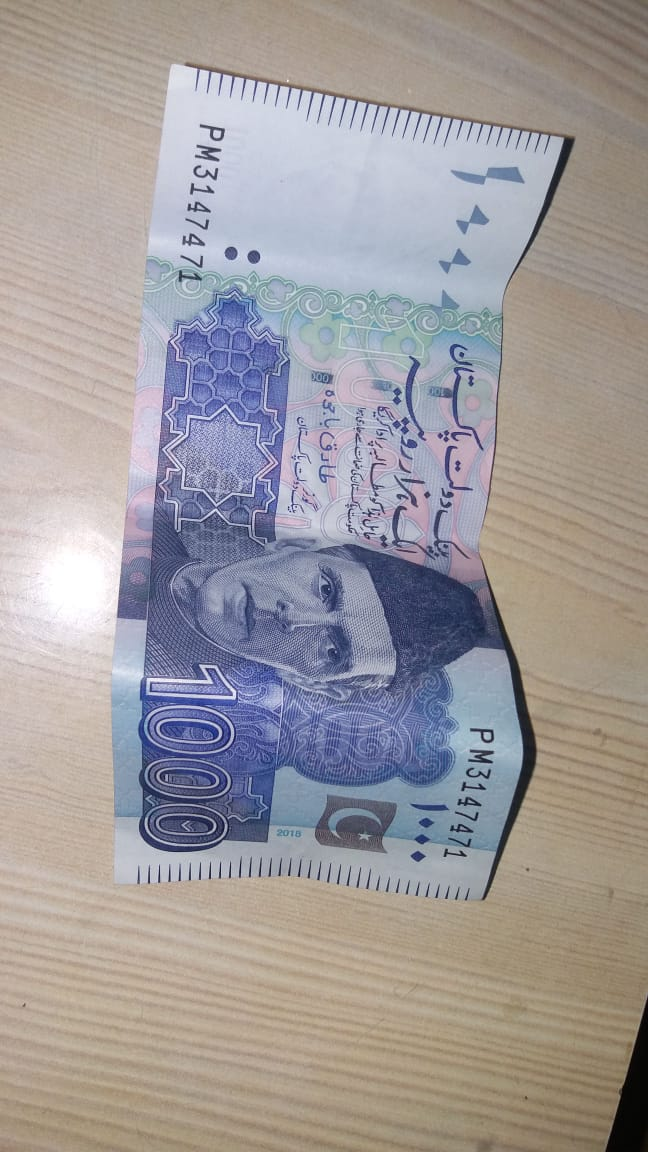1000 rupee: (86, 51, 594, 958)
